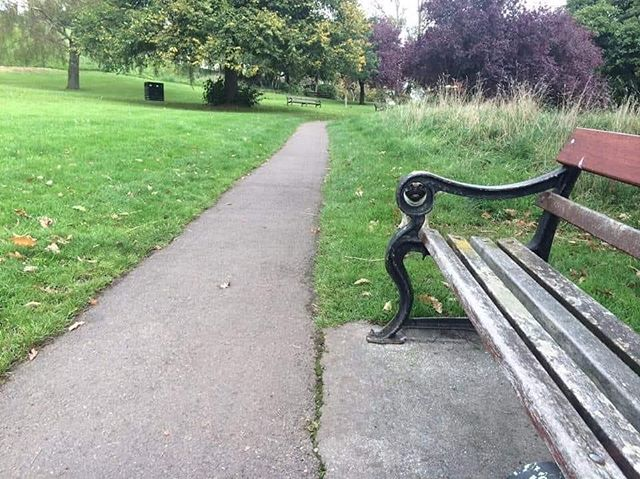bench: (357, 113, 640, 479), (282, 91, 325, 111)
grass: (1, 60, 233, 321)
tree: (77, 1, 361, 113), (370, 1, 601, 119)
